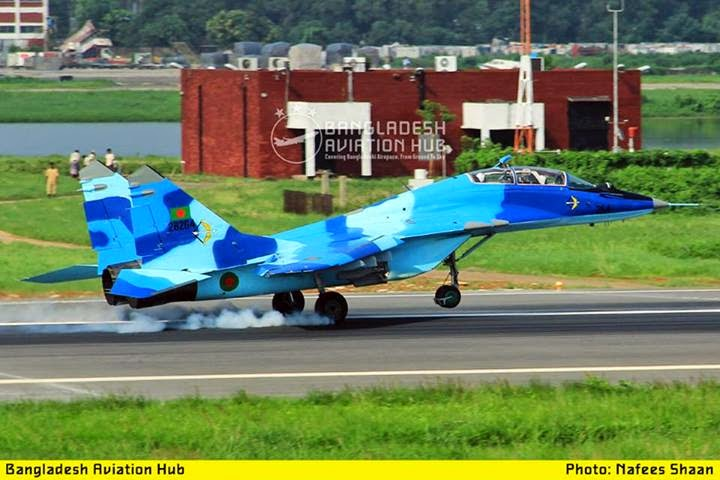Bangladesh: (165, 206, 196, 220), (221, 270, 239, 291)
Mig-29: (41, 122, 689, 334)
